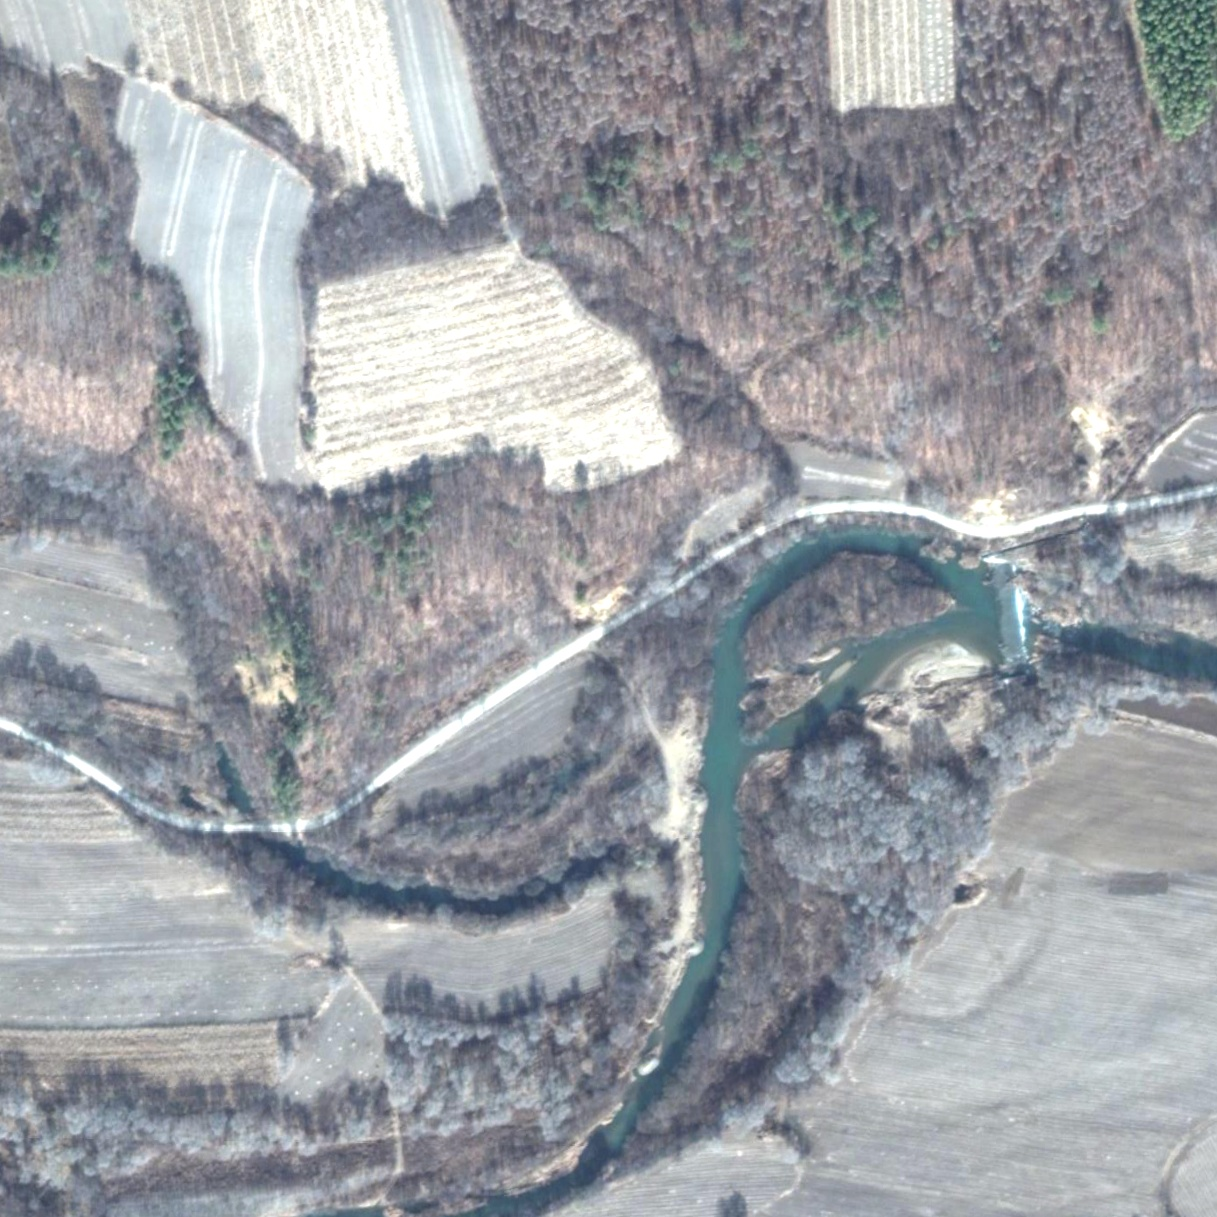slope: (617, 698, 707, 1074), (863, 641, 1004, 799), (541, 551, 636, 632), (1063, 393, 1132, 502), (225, 640, 296, 708), (956, 477, 1030, 528)
